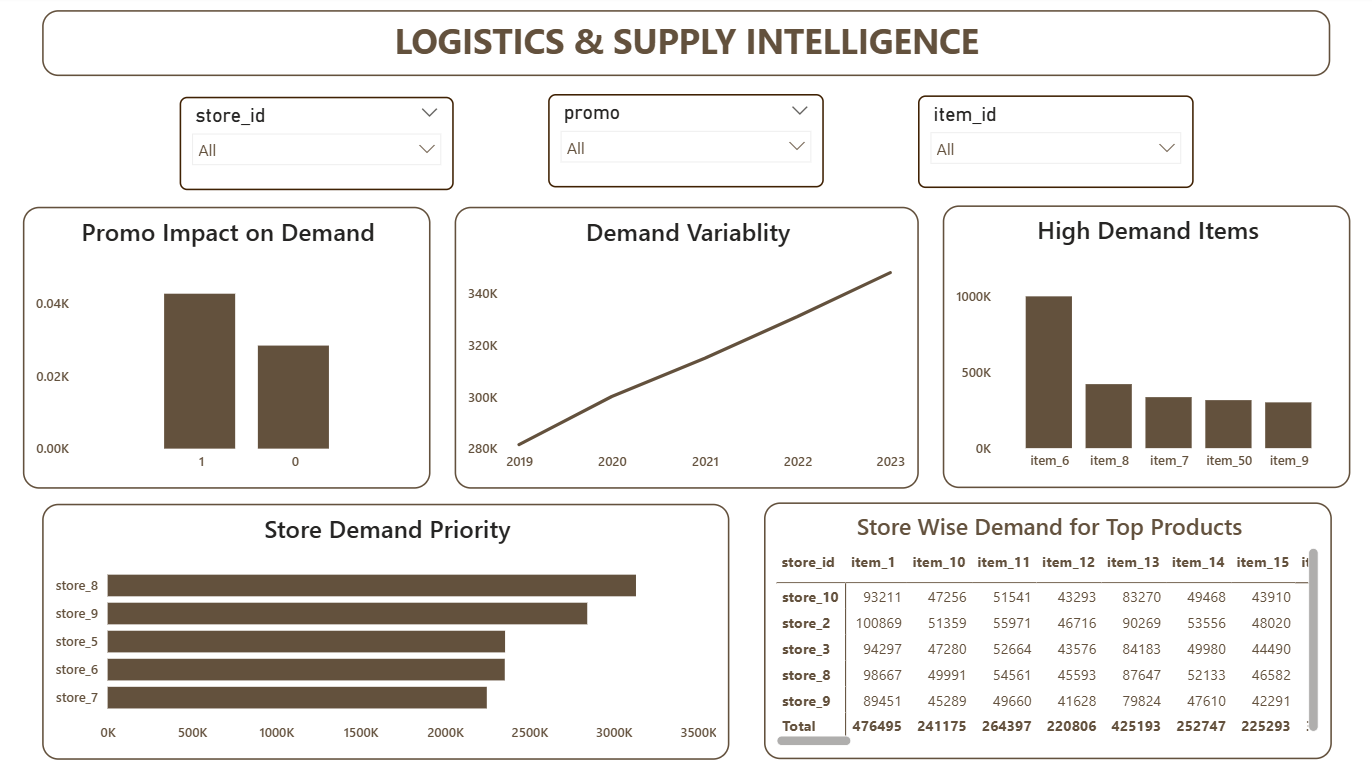

The dashboard page shown, as its layout file describes it:
{"tool":"powerbi","page":{"name":"Page 2","canvas":[1280,720],"ordinal":1},"visuals":[{"type":"textbox","box":[45.1,14.5,1192.7,61.2],"z":0},{"type":"barChart","title":"Store Demand Priority","fields":{"Y":["retail_sales.Total Sales"],"Category":["retail_sales.store_id"]},"box":[45.1,470.6,636.6,236.9],"z":1},{"type":"columnChart","title":"High Demand Items","fields":{"Y":["retail_sales.Total Sales"],"Category":["retail_sales.item_id"]},"box":[699.5,96.7,538.3,344.9],"z":2},{"type":"lineChart","fields":{"Category":["retail_sales.date.Variation.Date Hierarchy.Month"],"Y":["Sum(retail_sales.sales)"]},"box":[699.5,469,538.3,236.9],"z":3},{"type":"columnChart","fields":{"Category":["retail_sales.promo"],"Y":["retail_sales.Avg Demand"]},"box":[319.1,95.1,362.6,346.5],"z":4},{"type":"slicer","fields":{"Values":["retail_sales.store_id"]},"box":[45.1,95.1,254.7,85.4],"z":5},{"type":"slicer","fields":{"Values":["retail_sales.item_id"]},"box":[45.1,199.9,254.7,85.4],"z":6},{"type":"slicer","fields":{"Values":["retail_sales.promo"]},"box":[45.1,315.9,254.7,85.4],"z":7}]}

Visuals, with their boxes in screenshot pixels (x1, y1, x2, y2), scaled from the page's 1280x720 canvas onto the 1372x768 screenshot:
textbox: <bbox>48, 15, 1327, 81</bbox>
"Store Demand Priority" barChart: <bbox>48, 502, 731, 755</bbox>
"High Demand Items" columnChart: <bbox>750, 103, 1327, 471</bbox>
lineChart - retail_sales.date.Variation.Date Hierarchy.Month x Sum(retail_sales.sales): <bbox>750, 500, 1327, 753</bbox>
columnChart - retail_sales.promo x retail_sales.Avg Demand: <bbox>342, 101, 731, 471</bbox>
slicer - retail_sales.store_id: <bbox>48, 101, 321, 193</bbox>
slicer - retail_sales.item_id: <bbox>48, 213, 321, 304</bbox>
slicer - retail_sales.promo: <bbox>48, 337, 321, 428</bbox>
